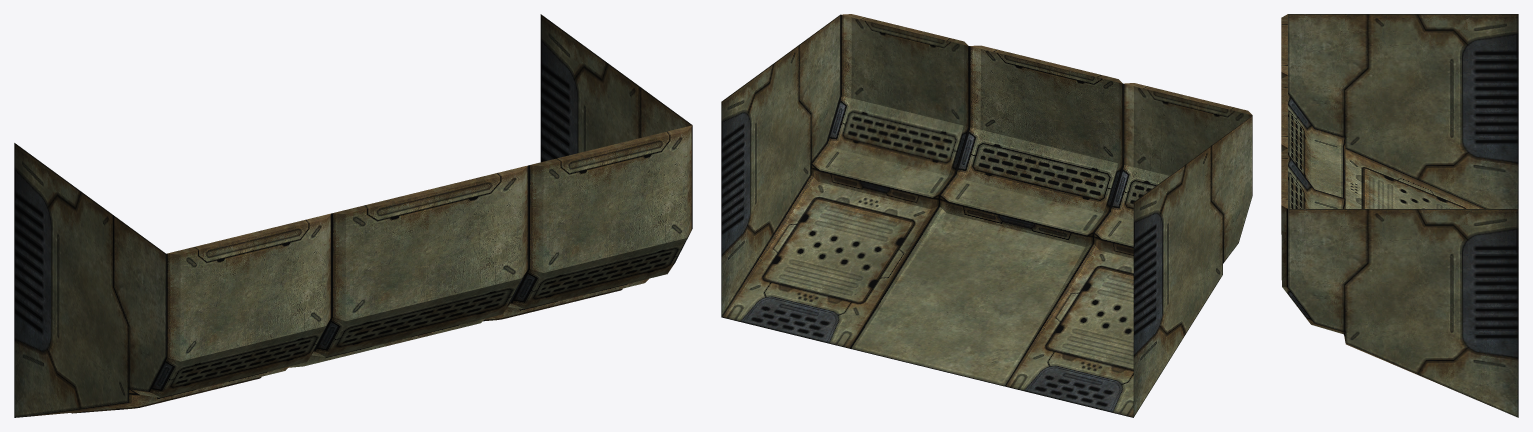
The model's file is consoles01.dae.
3 renders of one model, left to right at view 1: azimuth 30°, elevation 25°; view 2: azimuth 150°, elevation 25°; view 3: azimuth 270°, elevation 25°, orthographic. The views are drawn at different scales.
Parts seen in each view (by area): view 1: polySurface132; view 2: polySurface132; view 3: polySurface132.
Part boxes in pixels (box(x1,y1,x2,y2)): polySurface132: box(14, 14, 692, 417); polySurface132: box(721, 14, 1252, 417); polySurface132: box(1281, 14, 1518, 417).
Bounding box in the file's own units: 4 × 2 × 2.06.
1 material, 1 textured.
